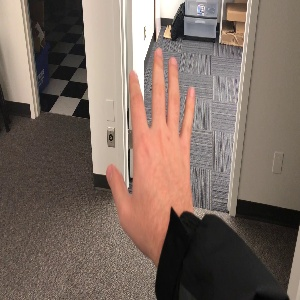hand: (106, 46, 195, 238)
